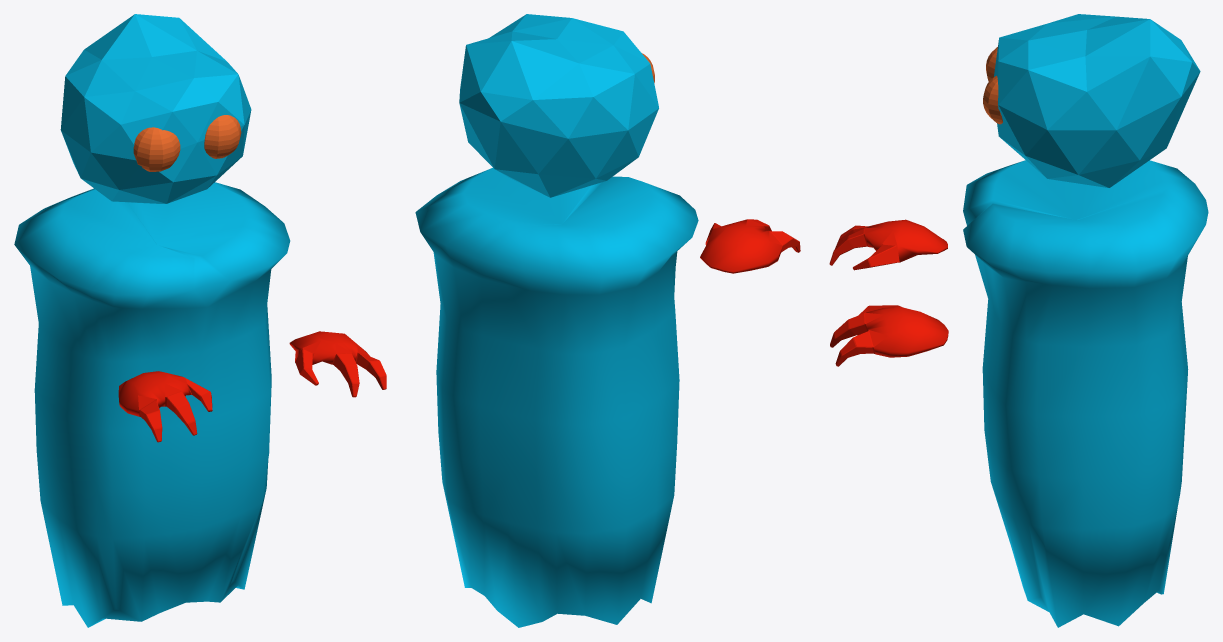
File: MeleeEnemy.fbx
3 views of the same model, side by side, from view 1: azimuth 30°, elevation 25°; view 2: azimuth 150°, elevation 25°; view 3: azimuth 270°, elevation 25° (orthographic). The views are drawn at different scales.
Parts seen in each view (by area): view 1: Cube.039, Cube.029, Sphere.013; view 2: Cube.039, Cube.029; view 3: Cube.039, Cube.029, Sphere.013.
Part boxes in pixels (x1=…): Cube.039: x1=14, y1=14, x2=290, y2=627; Cube.029: x1=118, y1=331, x2=386, y2=442; Sphere.013: x1=133, y1=115, x2=241, y2=171; Cube.039: x1=415, y1=14, x2=698, y2=627; Cube.029: x1=700, y1=219, x2=800, y2=273; Cube.039: x1=963, y1=14, x2=1208, y2=627; Cube.029: x1=829, y1=219, x2=948, y2=366; Sphere.013: x1=983, y1=47, x2=1002, y2=124.
Size of the model in its own units: 84.25 by 190 by 112.
